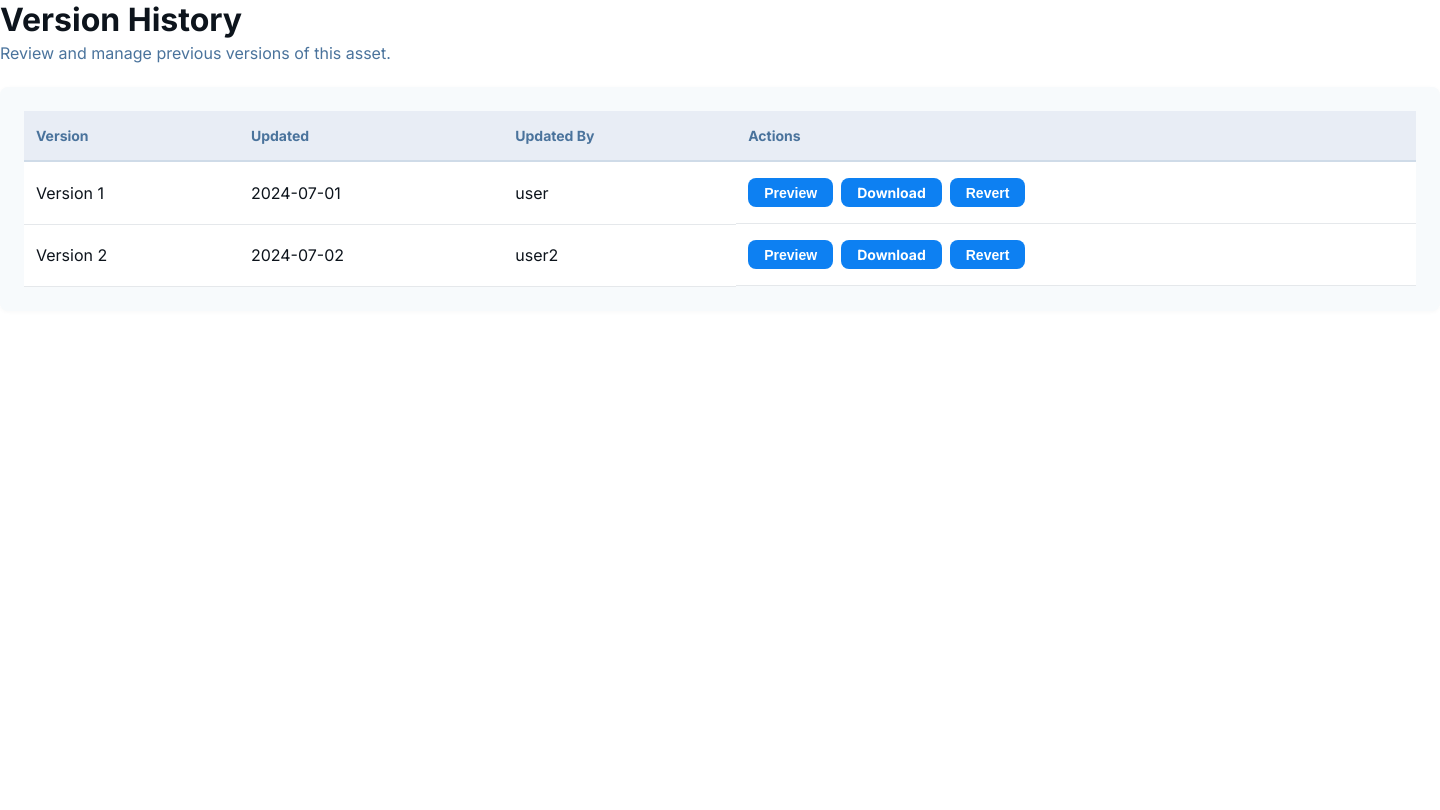
VersionHistory page › プレビューボタン押下でプレビューモーダルが表示される
Click the button "Preview" in the row of "Version 1" at (791, 192), box [748,178,833,207]
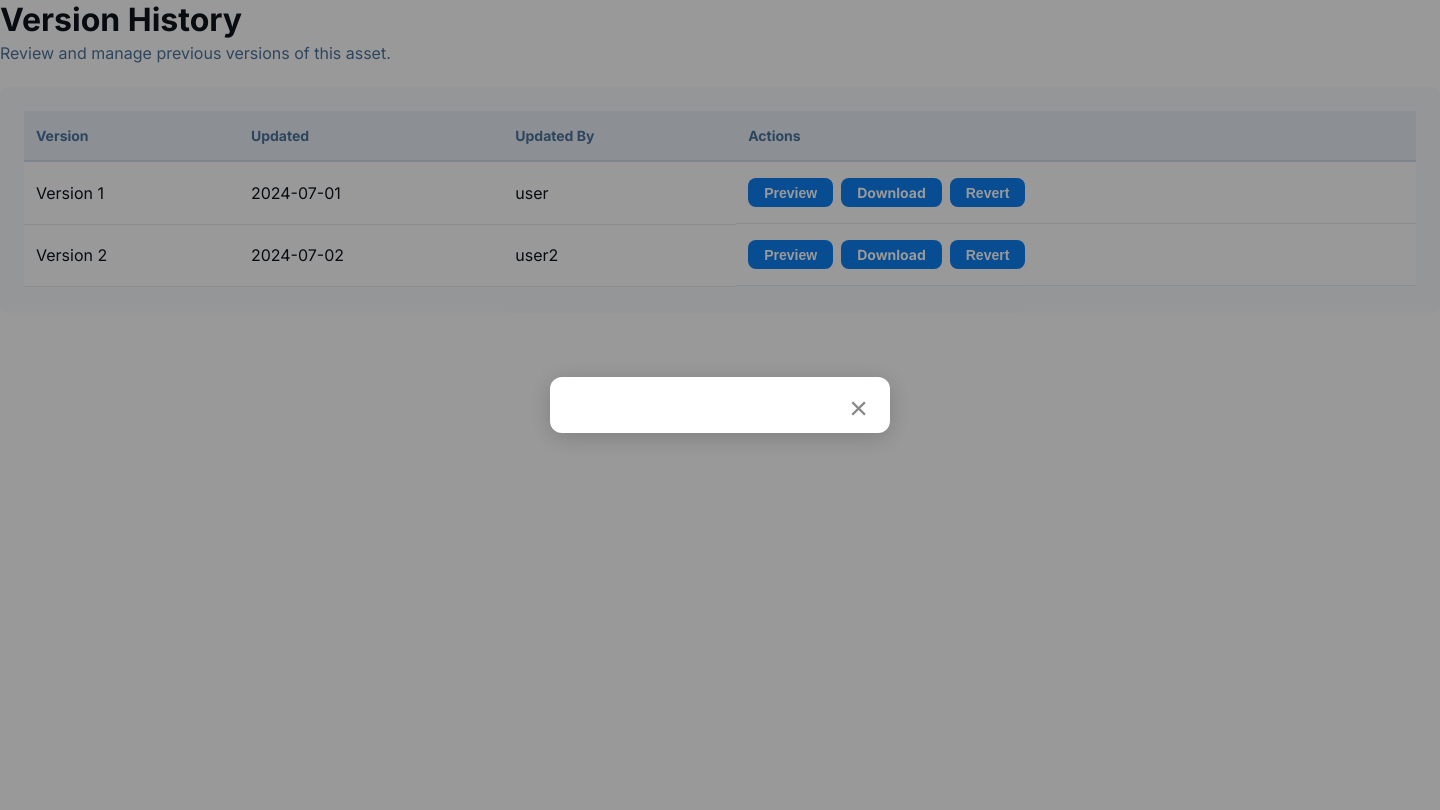
Now the button "×" is shown, box [843,389,874,428]
